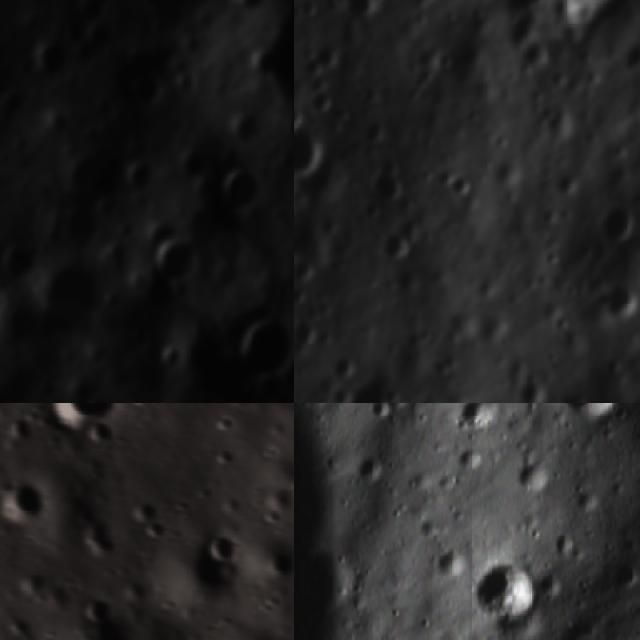crater: (52, 152, 119, 248), (488, 0, 628, 41), (475, 555, 539, 631), (230, 316, 294, 382), (42, 403, 128, 435), (204, 232, 244, 292), (0, 485, 50, 533), (294, 118, 329, 185), (362, 155, 408, 204), (594, 201, 640, 247), (504, 36, 556, 74), (153, 236, 195, 281), (0, 234, 35, 285), (223, 164, 259, 213), (338, 376, 402, 403), (597, 281, 640, 321), (120, 71, 166, 107), (374, 225, 412, 265), (202, 534, 242, 570), (334, 0, 385, 27), (312, 37, 348, 75), (460, 403, 500, 435), (446, 169, 481, 204), (518, 461, 552, 493), (155, 338, 183, 376), (252, 46, 280, 84), (512, 371, 545, 403), (555, 403, 615, 420), (573, 487, 611, 512), (616, 39, 640, 76), (354, 456, 386, 482), (331, 350, 356, 383), (551, 310, 575, 335), (434, 46, 458, 70), (613, 403, 634, 427), (364, 403, 391, 421), (391, 403, 408, 410)
